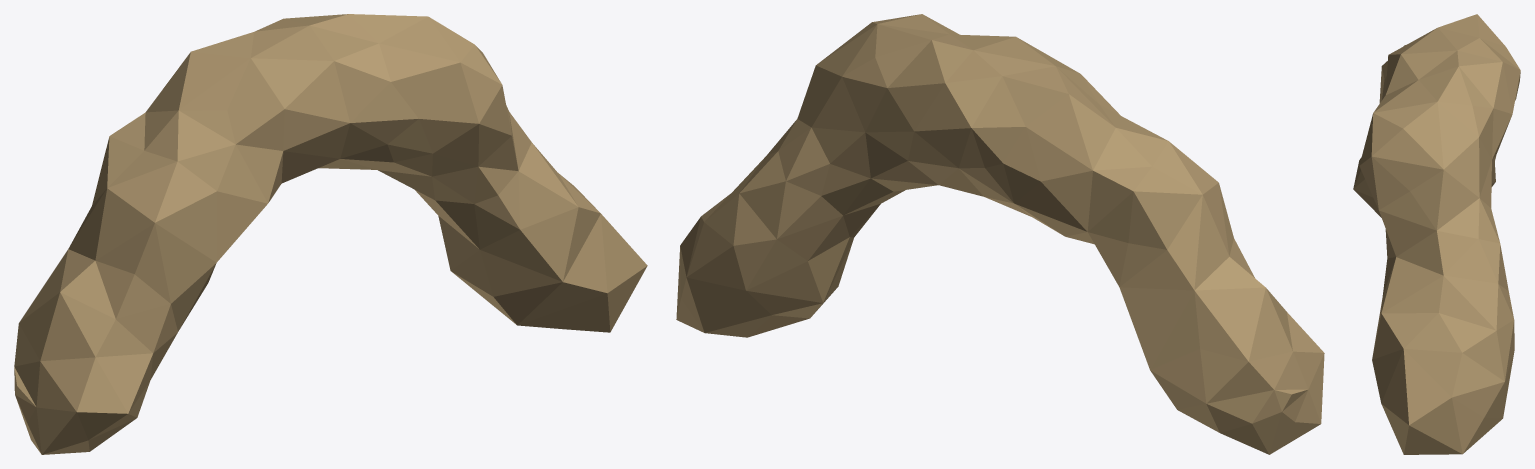
File: Steinbogen_001.gltf
3 renders of one model, left to right at view 1: azimuth 30°, elevation 25°; view 2: azimuth 150°, elevation 25°; view 3: azimuth 270°, elevation 25°, orthographic. The views are drawn at different scales.
Parts seen in each view (by area): view 1: Steinbogen.001-col; view 2: Steinbogen.001-col; view 3: Steinbogen.001-col.
Boxes of the visible parts, x1,y1,x2,y2 form: Steinbogen.001-col: (14,14,647,454); Steinbogen.001-col: (676,14,1324,454); Steinbogen.001-col: (1353,14,1520,454).
Bounding box in the file's own units: 9.18 × 4.99 × 2.57.
